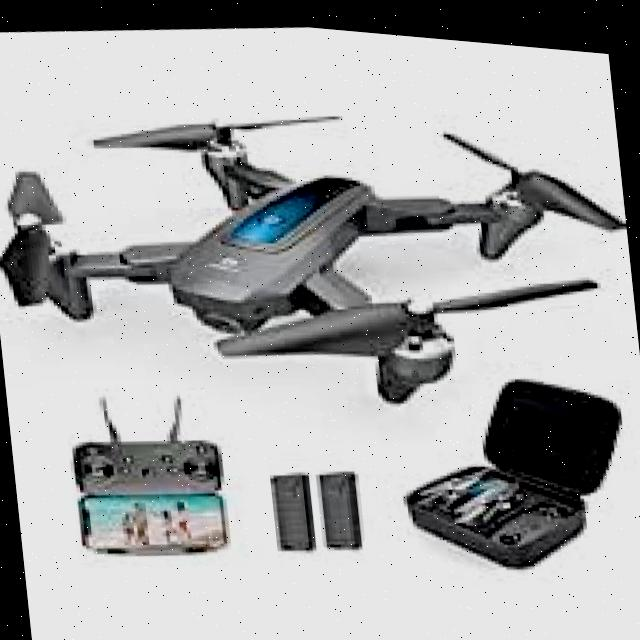drone: (0, 27, 640, 468)
